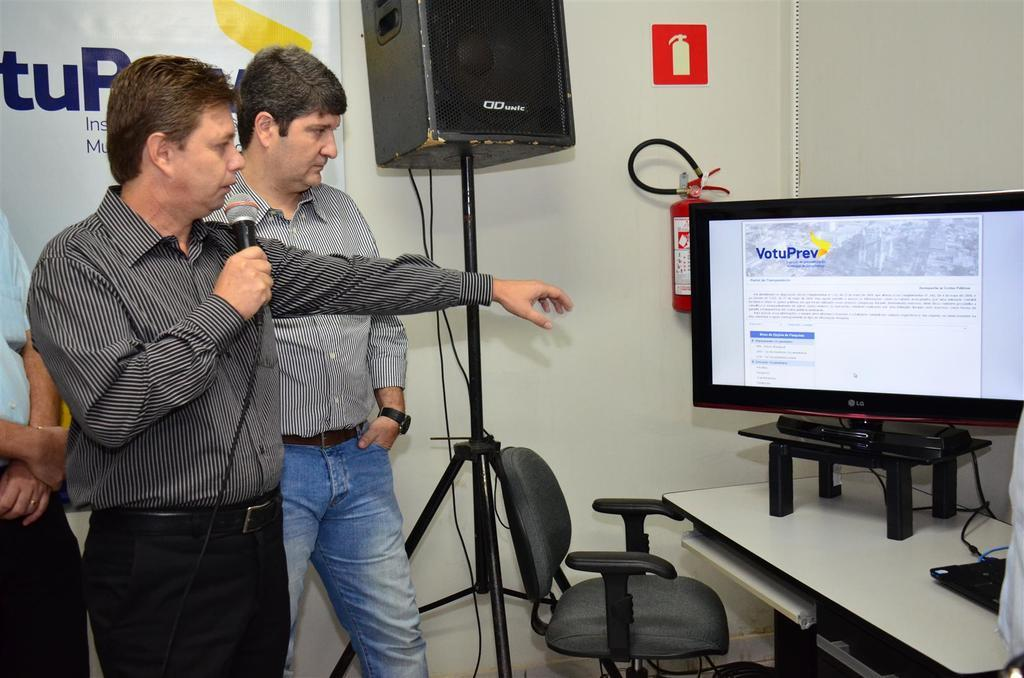Chair: (493, 445, 730, 677)
Computer-monitor: (687, 188, 1022, 451)
